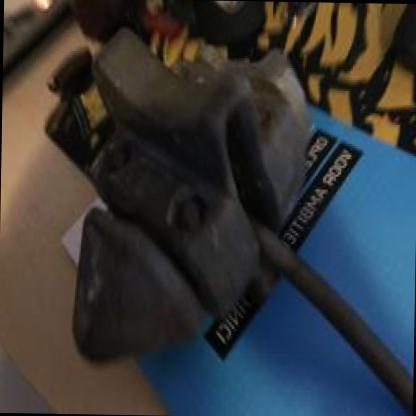Twistlock: (54, 10, 415, 415)
